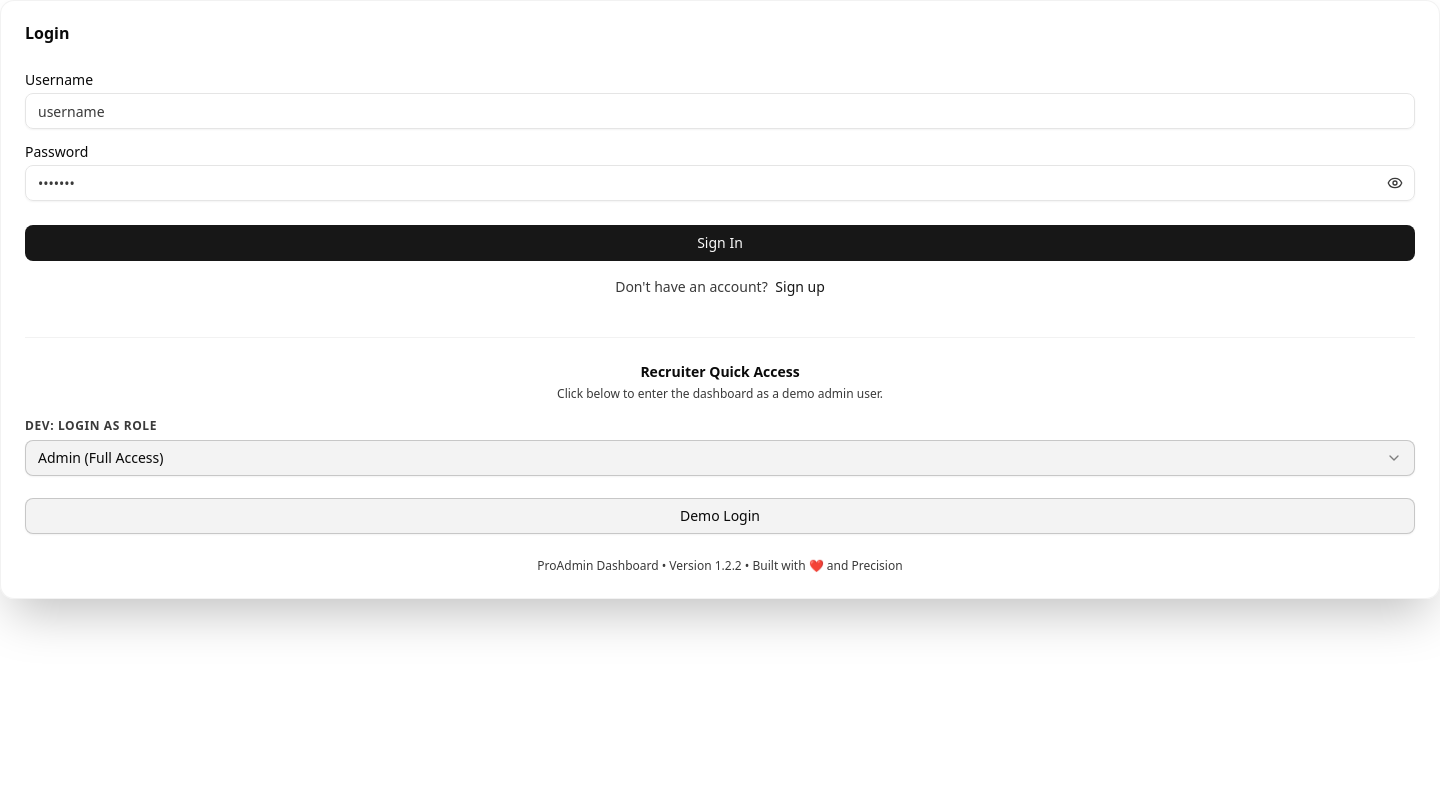
Test: LoginForm › should display error message on API failure
Type "testuser" into the field labelled "Username" at (720, 111), box [25,93,1415,129]
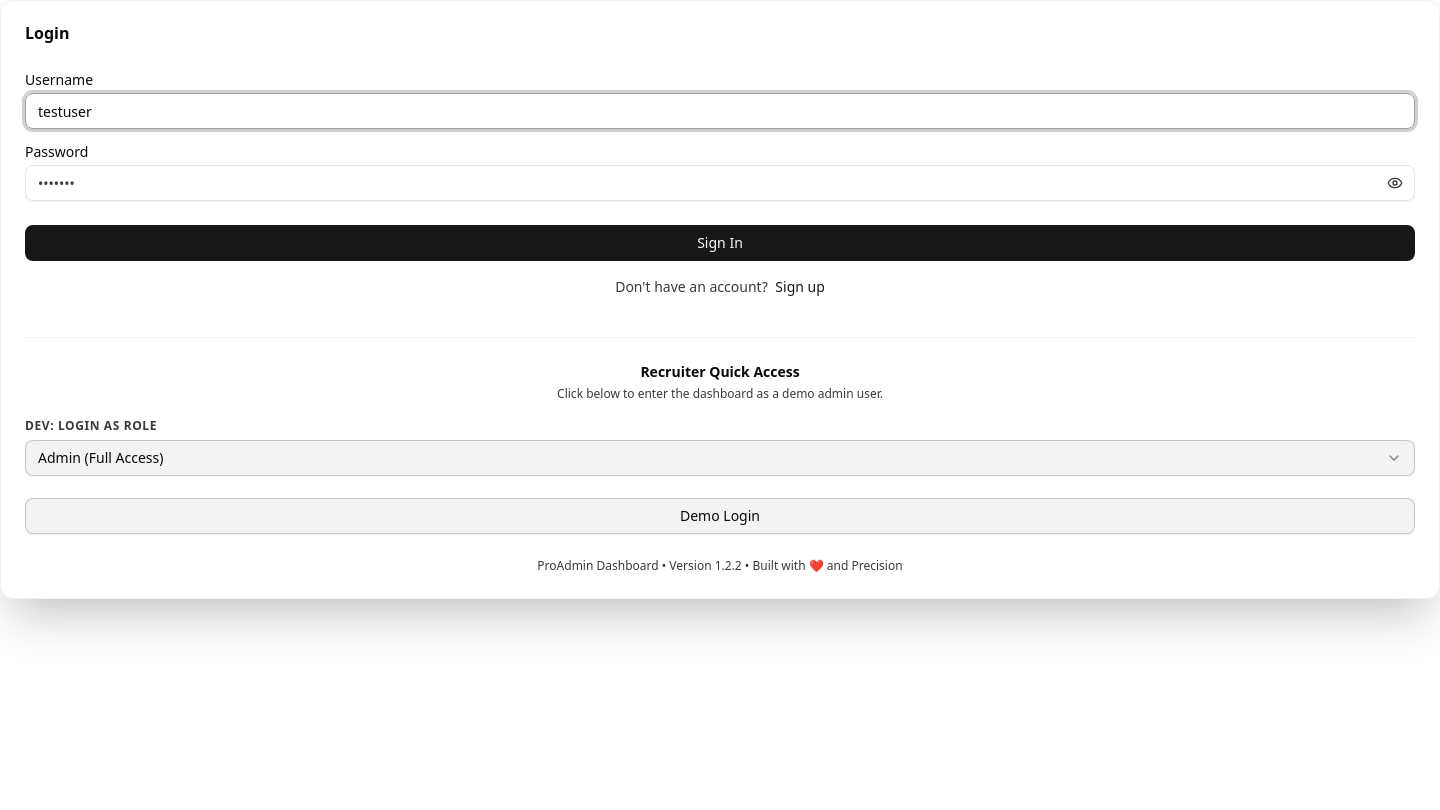
Type "wrongpassword" into the password field labelled "Password" at (720, 183), box [25,165,1415,201]
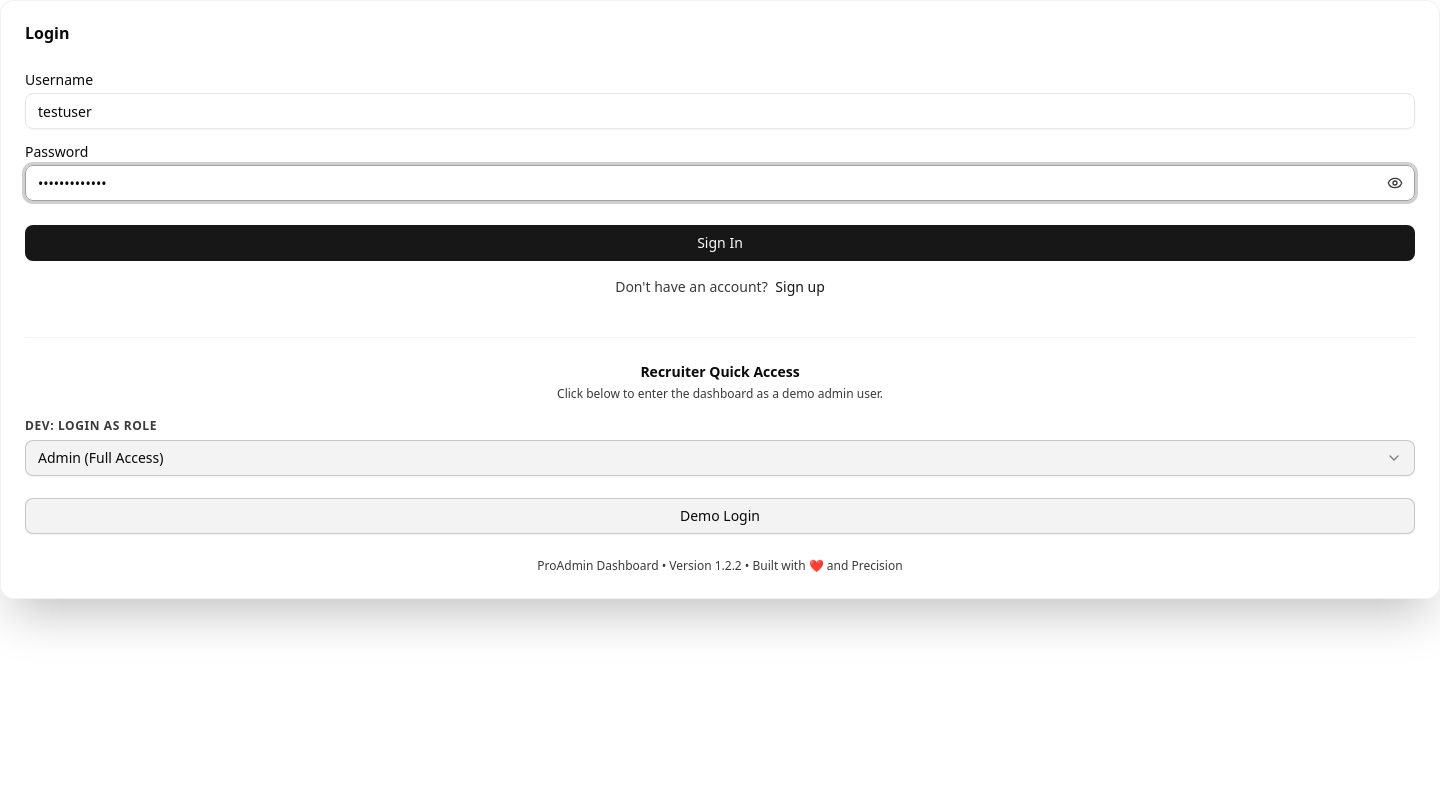
Click the button "Sign In" at (720, 243), box [25,225,1415,261]
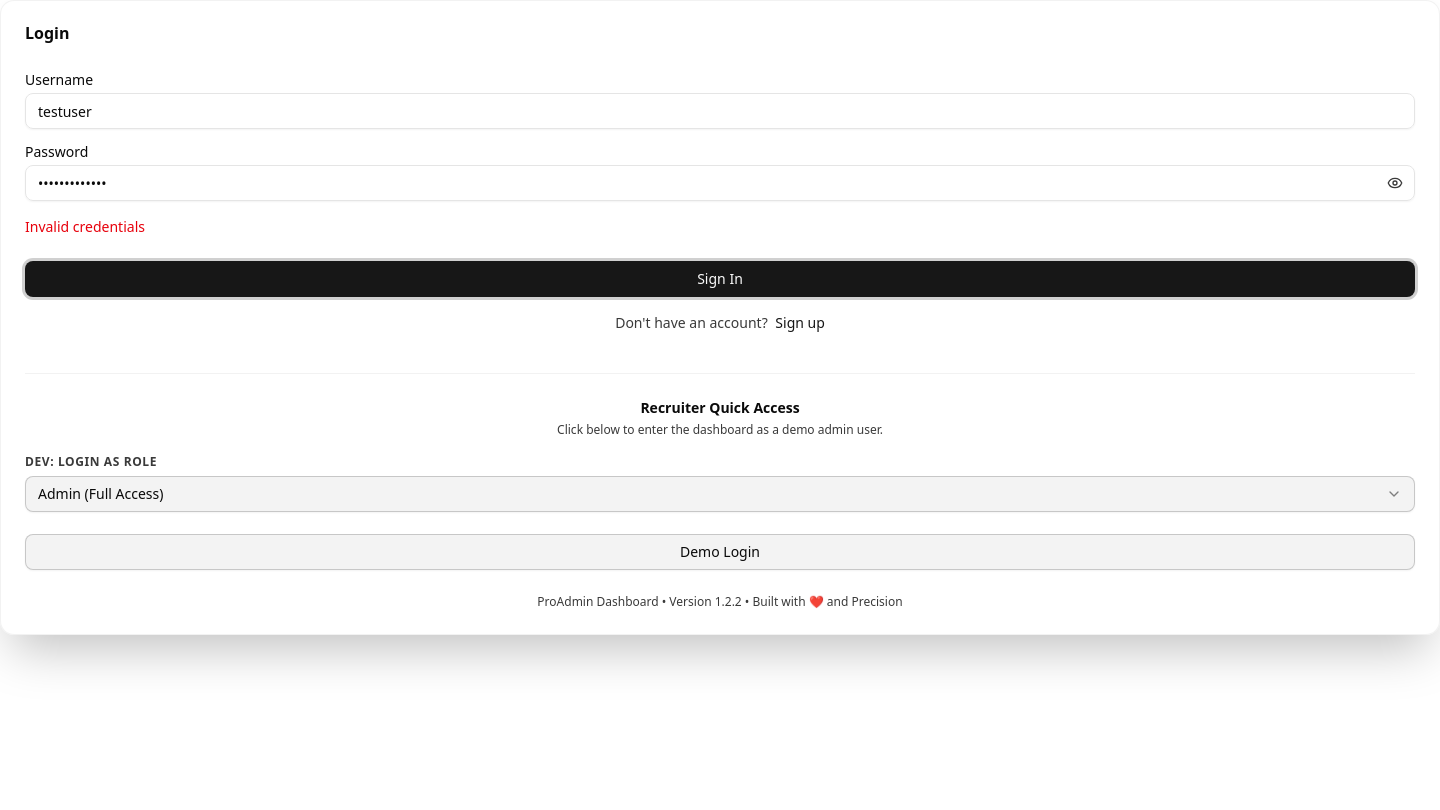
Expected: the text "Invalid credentials" is shown, [25,217,145,236]
